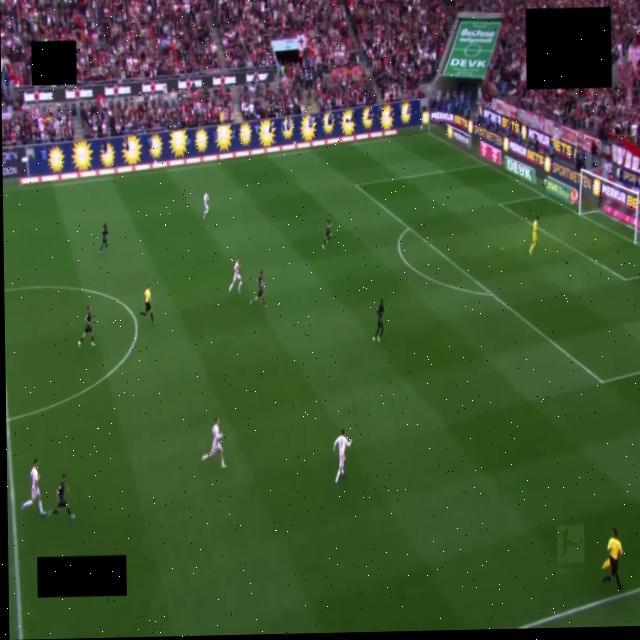player: (21, 458, 45, 516), (601, 529, 622, 590), (202, 417, 225, 467), (51, 474, 75, 519), (334, 430, 352, 486), (78, 306, 95, 347), (140, 285, 155, 324), (251, 271, 266, 306), (373, 300, 384, 343), (228, 259, 241, 293), (530, 217, 538, 254), (323, 214, 331, 249), (99, 223, 108, 253), (203, 191, 209, 219)
referee: (141, 285, 154, 324)
